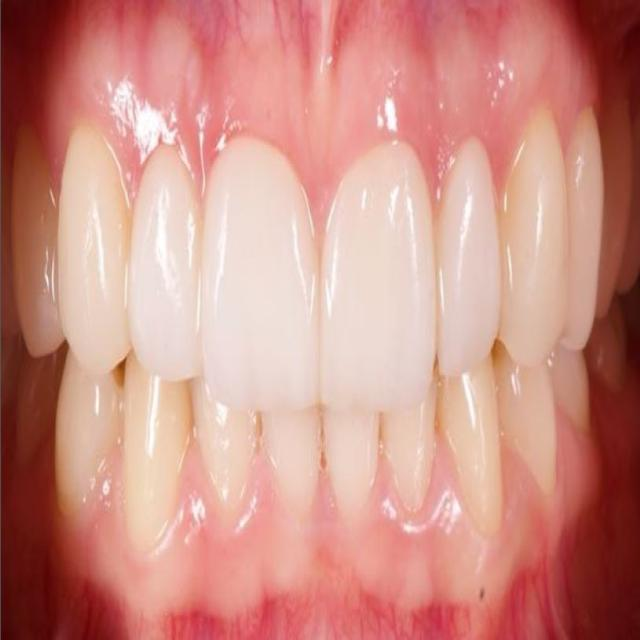1st Molar: (590, 302, 627, 391)
1st Premolar: (12, 132, 64, 357), (57, 353, 121, 520), (495, 348, 558, 501), (565, 104, 603, 340)
2nd Premolar: (602, 103, 632, 304), (12, 357, 59, 472), (552, 341, 592, 444)
Canine: (55, 129, 131, 375), (500, 107, 568, 366), (124, 362, 191, 559), (439, 372, 503, 546)
Central Incisor: (199, 136, 319, 413), (320, 141, 437, 413), (265, 410, 322, 526), (324, 414, 382, 526)
Lateral Incisor: (127, 146, 202, 382), (435, 138, 501, 376), (190, 381, 260, 529), (382, 397, 436, 516)
